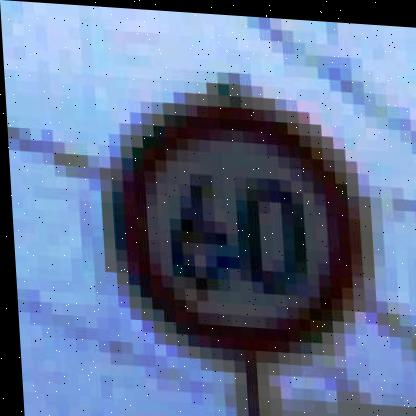Speed Limit -60-: (91, 83, 377, 374)
